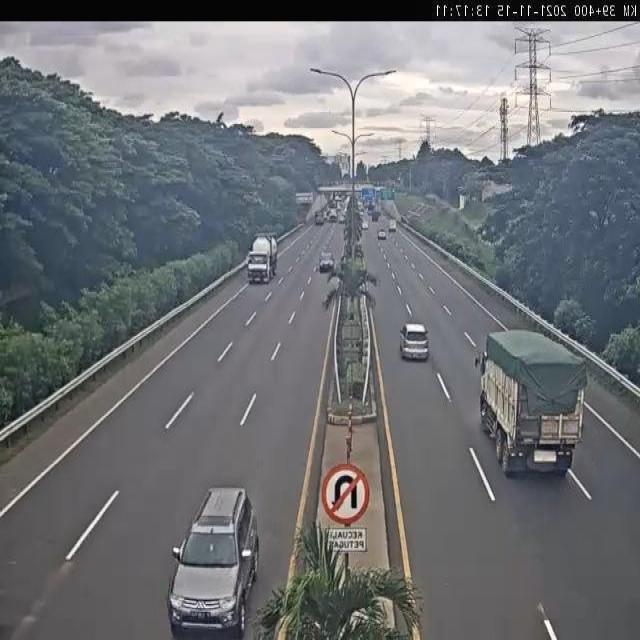Car: (165, 480, 261, 640), (396, 323, 434, 365), (319, 250, 335, 274), (376, 227, 387, 241)
Truck: (471, 328, 589, 477), (246, 233, 278, 283)
